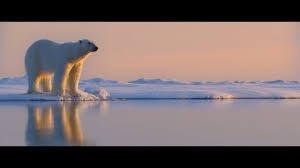bear: (19, 35, 102, 103)
